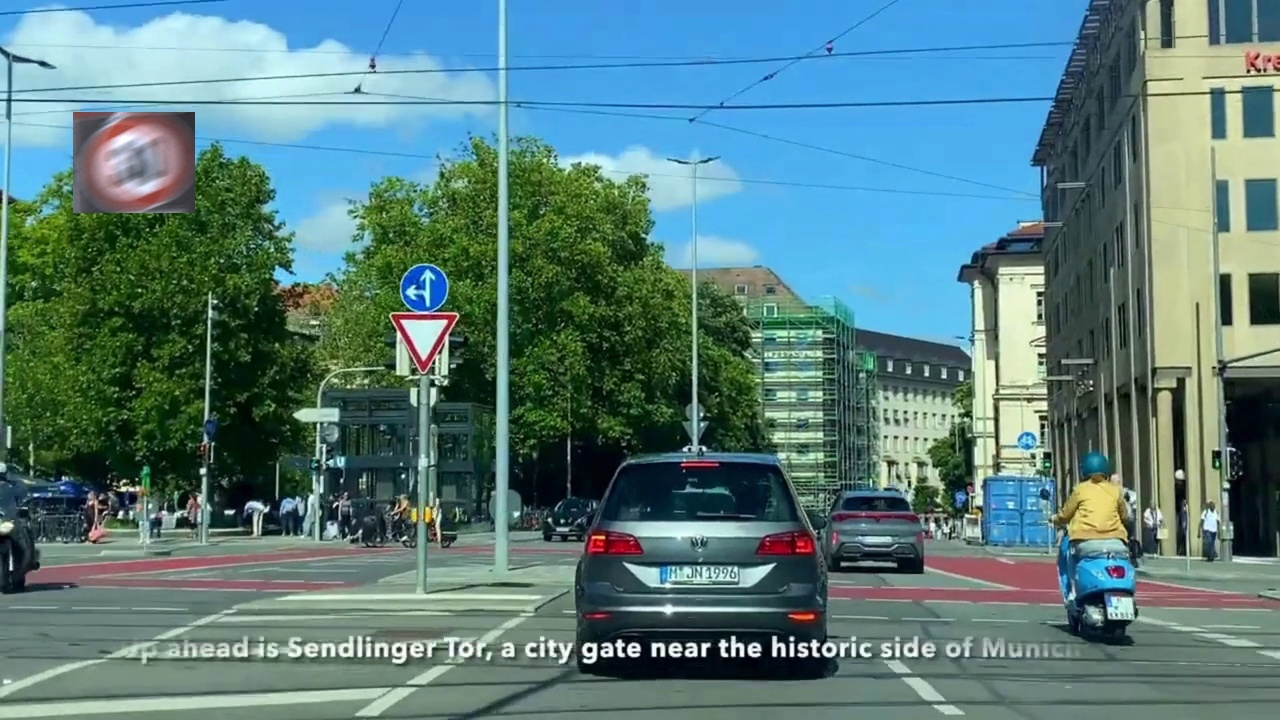Speed 30: (73, 112, 195, 213)
